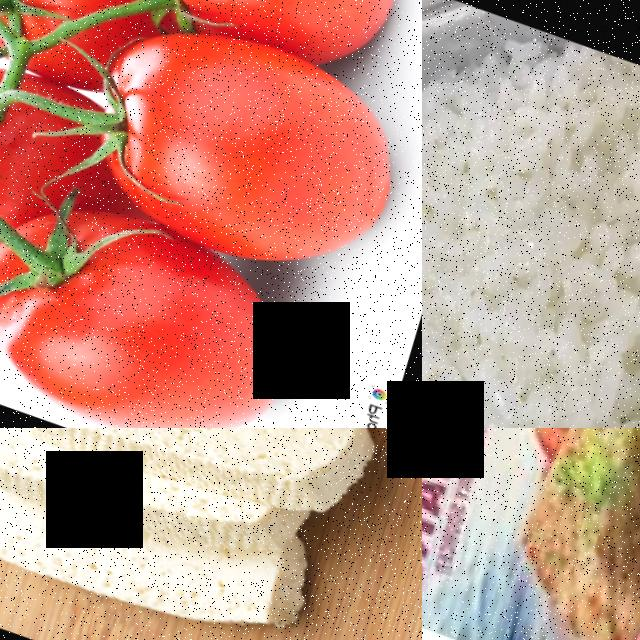tofu: (0, 428, 322, 640), (0, 428, 376, 552)
tomato: (38, 0, 422, 311), (0, 161, 318, 428), (71, 0, 422, 96)
white rice: (422, 46, 640, 428)
